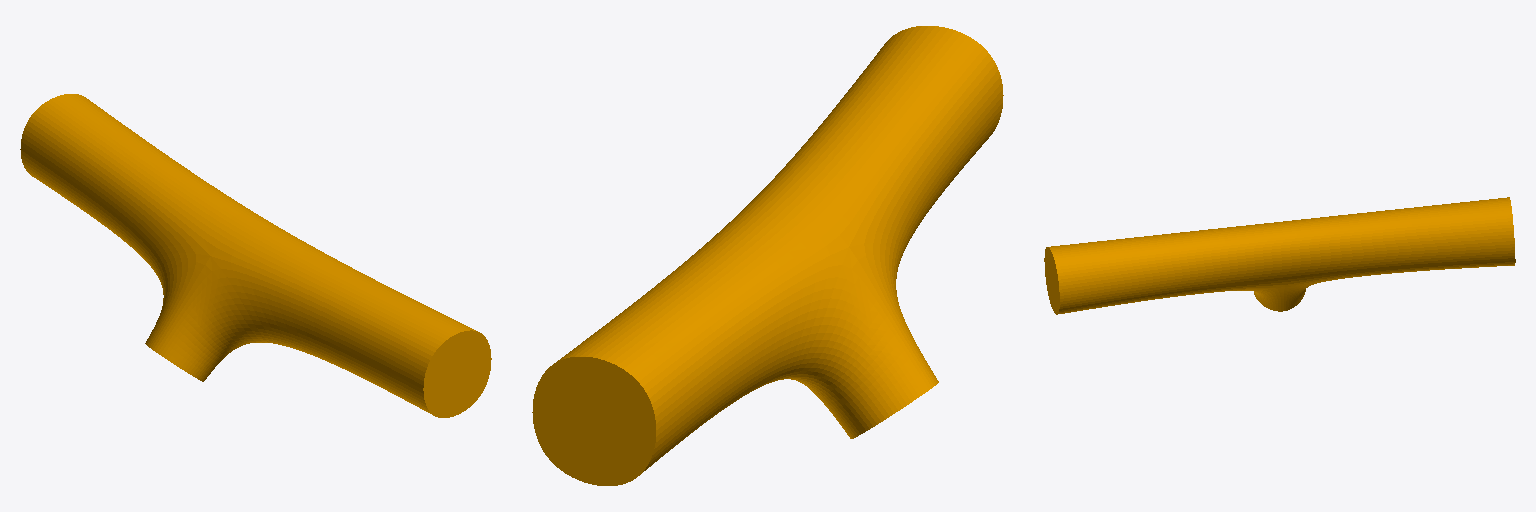
The robot description file, URDF, robot "object":
<robot name="object">
  <link name="object">
    <visual>
      <origin xyz="0 0 0"/>
      <geometry>
        <mesh filename="visual.obj" scale="1 1 1"/>
      </geometry>
    </visual>
    <collision>
      <origin xyz="0 0 0"/>
      <geometry>
        <mesh filename="visual.obj" scale="1 1 1"/>
      </geometry>
    </collision>
    <inertial>
      <mass value="0.05"/>
      <inertia ixx="6.806560826810505e-05" iyy="5.359573774915801e-06" izz="6.95455683826037e-05" ixy="9.882357692524345e-06" ixz="-2.973766538749259e-07" iyz="-3.122286199316619e-06"/>
    </inertial>
  </link>
</robot>

--- Facts derived from the render (not from the file) ---
Views: 3 orthographic renders of the robot side by side, from view 1: azimuth 30°, elevation 25°; view 2: azimuth 150°, elevation 25°; view 3: azimuth 270°, elevation 25°.
Robot: object — 1 links, 0 joints (none); root link object; default pose: every joint at zero.
Links seen in each view (by area): view 1: object; view 2: object; view 3: object.
Link boxes in pixels (<box>): object: <box>20,94,491,417</box>; object: <box>532,26,1003,485</box>; object: <box>1044,197,1515,314</box>.
Bounding box of the posed robot: 0.0463 × 0.1359 × 0.0375 m (x, y, z).
1 mesh visuals loaded from 1 distinct referenced files (1 OBJ).
